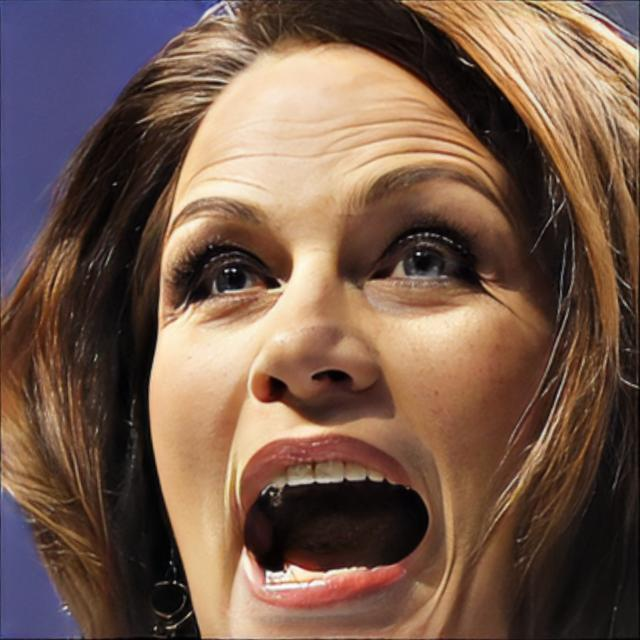fear: (146, 32, 574, 640)
